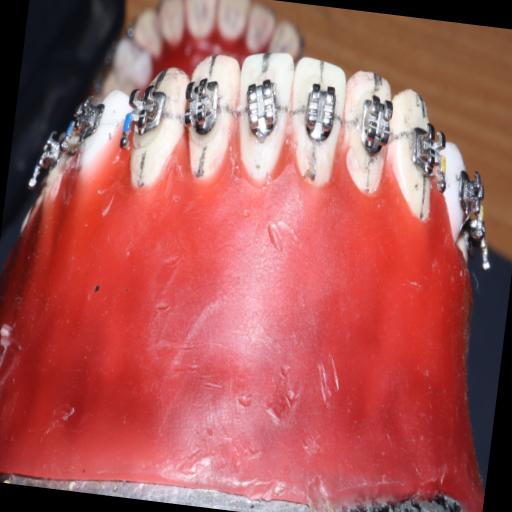incorrect_brace: (298, 78, 340, 140), (240, 79, 282, 140)
